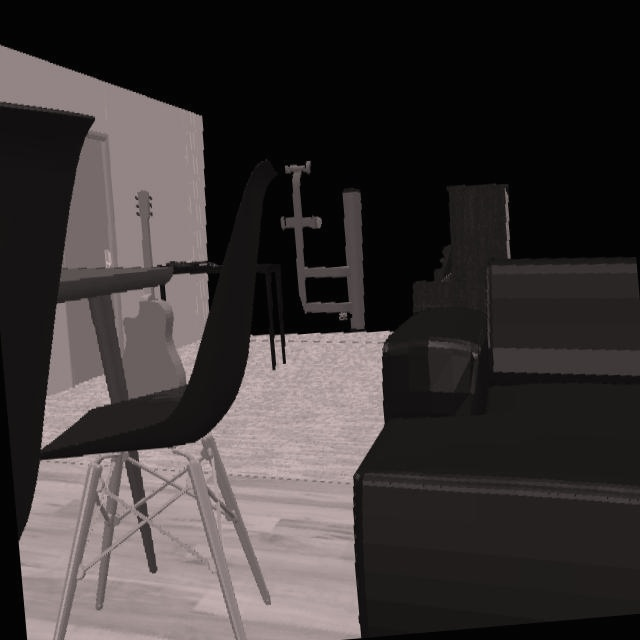chair: (0, 102, 271, 634)
sofa: (352, 256, 640, 638)
table: (57, 261, 222, 404)
